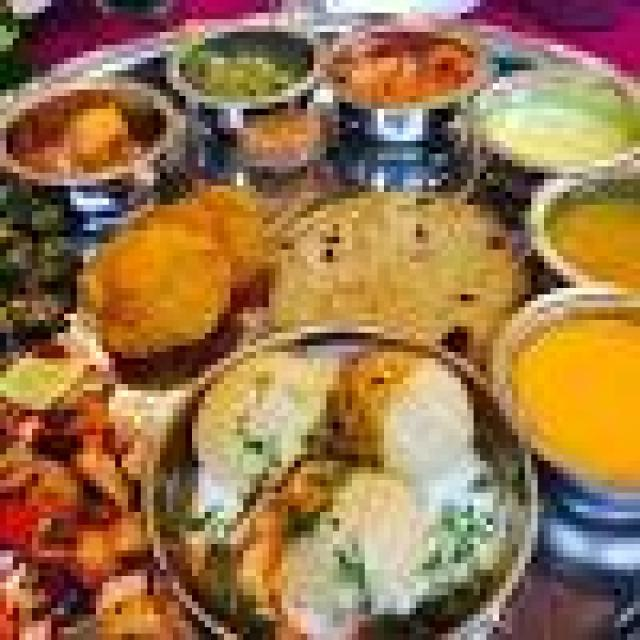dal: (269, 181, 520, 358), (84, 191, 247, 377), (500, 320, 632, 488), (461, 67, 631, 185), (164, 26, 317, 117), (537, 180, 635, 292)
sweet: (223, 96, 338, 170)
